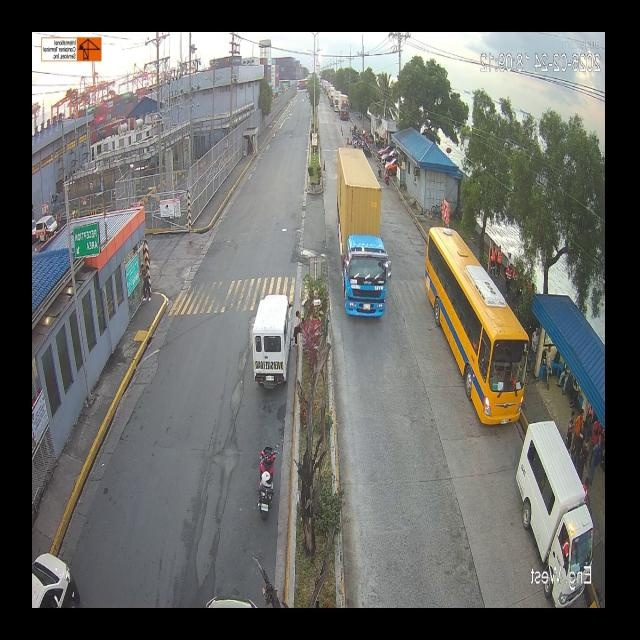bus: (106, 224, 534, 436)
car: (518, 425, 586, 567), (250, 290, 296, 393)
motorcycle: (242, 434, 278, 524)
truck: (326, 147, 384, 325), (338, 91, 349, 121)
